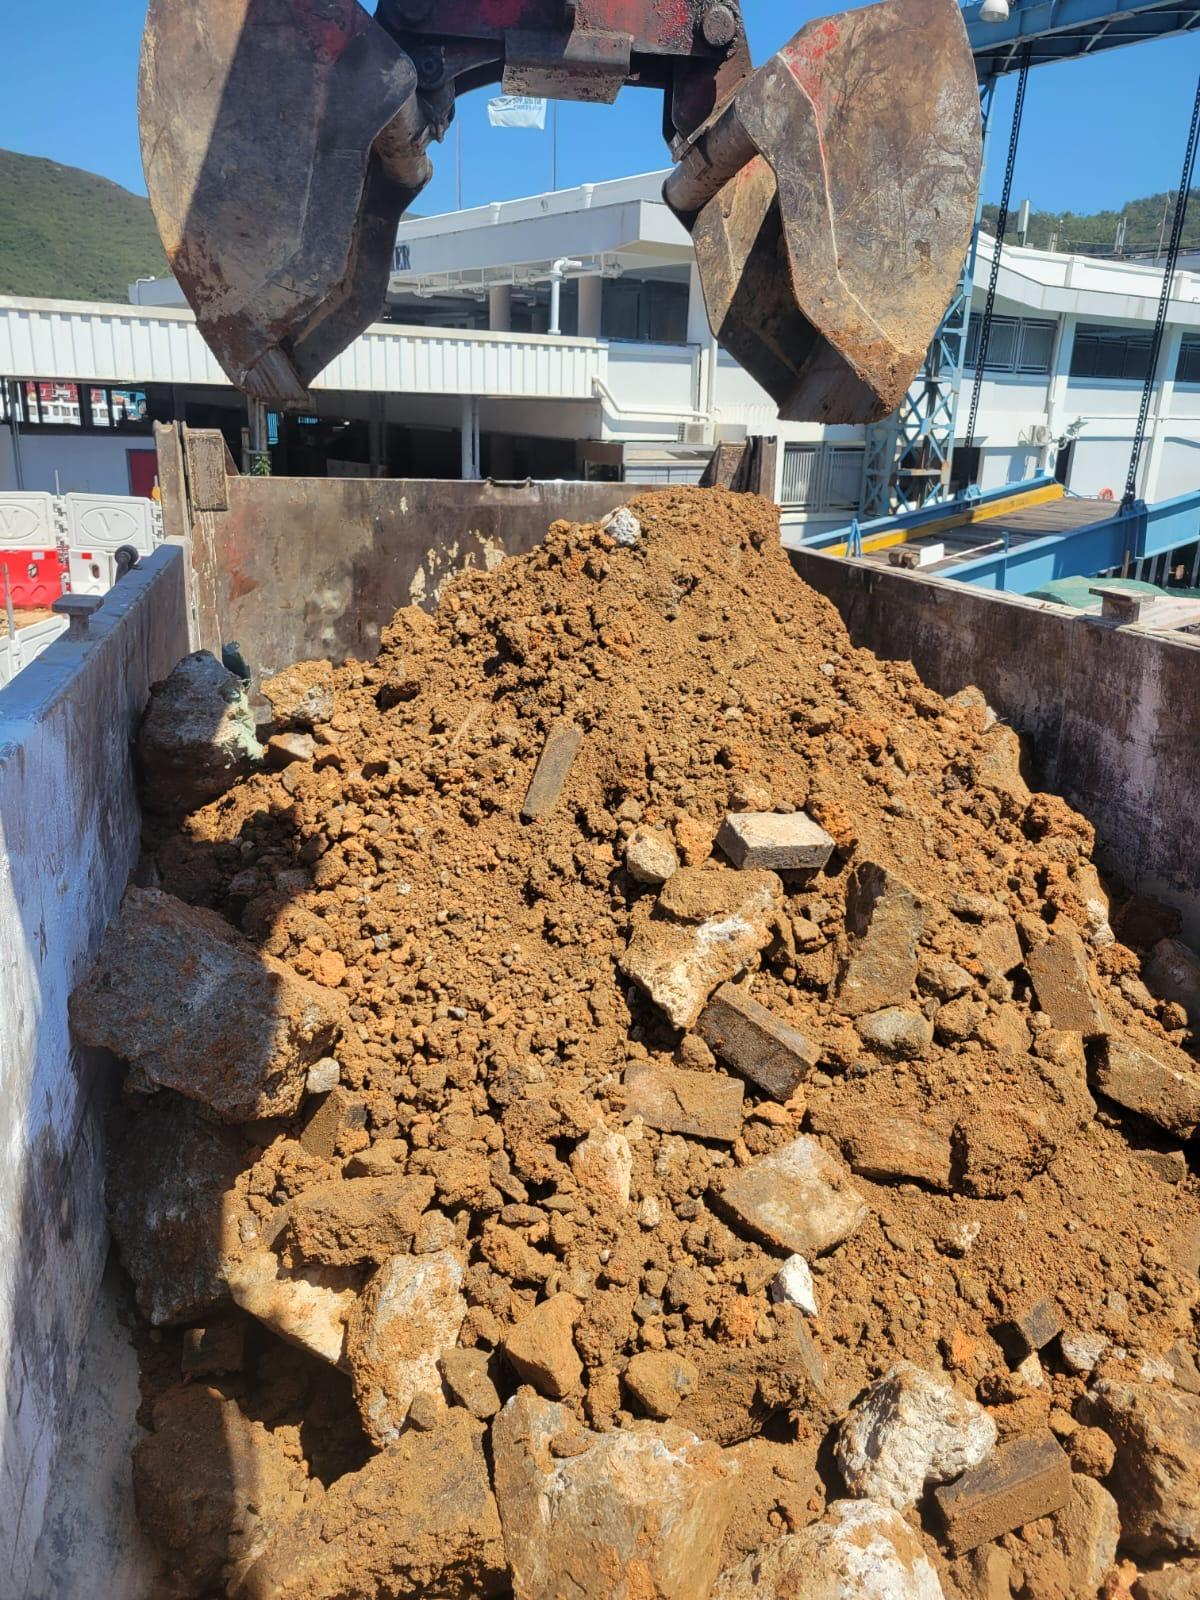dry: (180, 488, 1180, 1577)
